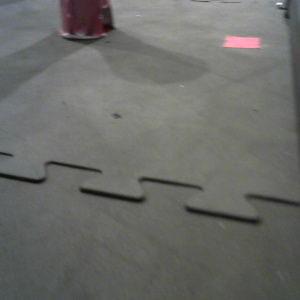right: (60, 1, 116, 40)
